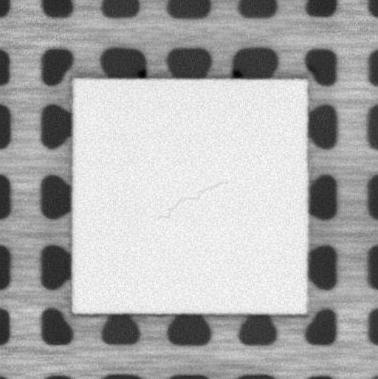DIE_CRACK: (156, 181, 228, 220)
